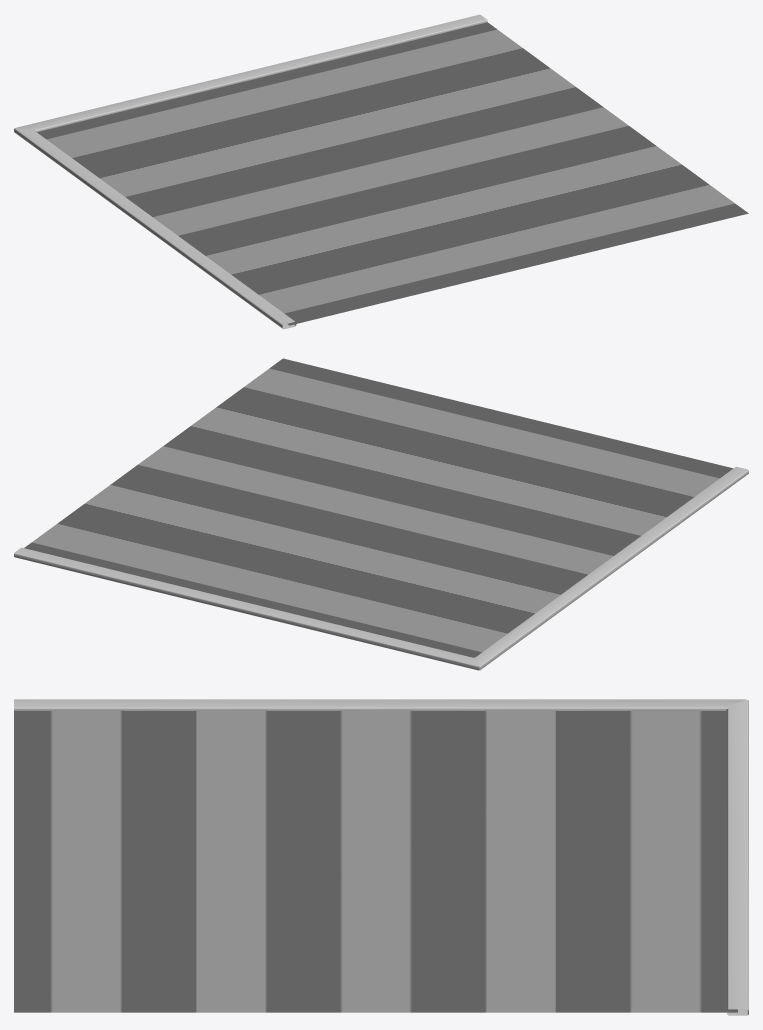
File: SM_Carpet_C_L1.fbx
3 renders of one model, top to bottom at view 1: azimuth 30°, elevation 25°; view 2: azimuth 150°, elevation 25°; view 3: azimuth 270°, elevation 25°, orthographic. The views are drawn at different scales.
Parts seen in each view (by area): view 1: SM_Carpet_C_L1_LOD0; view 2: SM_Carpet_C_L1_LOD0; view 3: SM_Carpet_C_L1_LOD0.
Boxes of the visible parts, x1=… form: SM_Carpet_C_L1_LOD0: x1=14, y1=14, x2=748, y2=329; SM_Carpet_C_L1_LOD0: x1=14, y1=358, x2=748, y2=670; SM_Carpet_C_L1_LOD0: x1=14, y1=699, x2=748, y2=1015.
Size of the model in its own units: 203 by 203 by 2.
